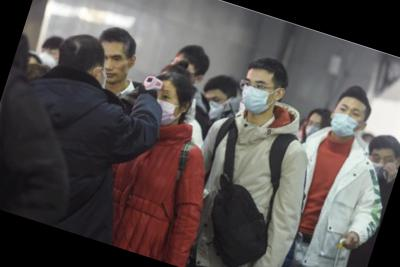with_mask: (142, 85, 185, 133), (235, 74, 279, 120), (327, 100, 368, 144), (365, 148, 399, 182), (196, 90, 229, 123), (34, 45, 61, 73), (303, 118, 322, 140)
without_mask: (95, 48, 131, 88)
